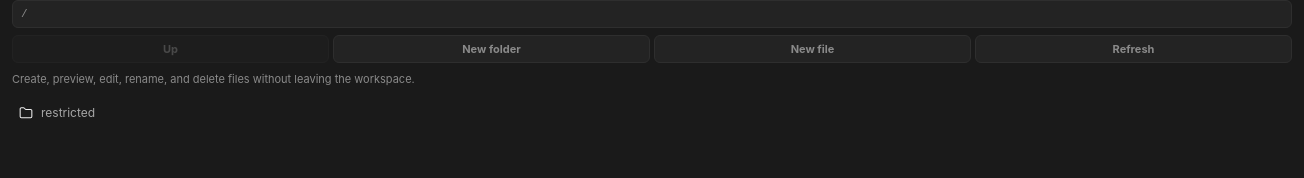
Test: WorkspaceFilePanel - Folder Navigation Properties › Property 11: Failed navigation preserves current directory › should show error message when navigation fails
Check: the text "restricted" is shown, box 41,105 -> 95,120
// Click on folder
Click the button "restricted" at (68, 112), box 12,96 -> 1292,130
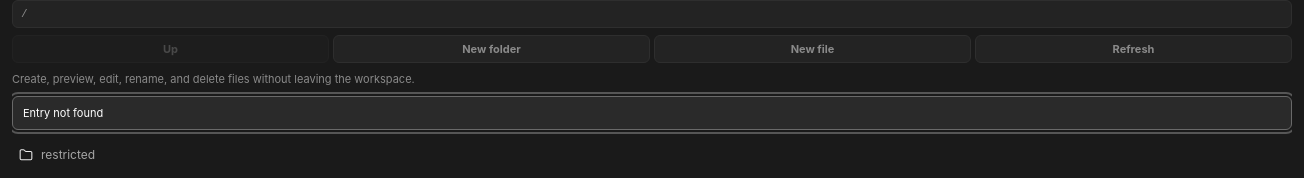
Check: the text "Entry not found" is shown, box 12,96 -> 1292,130
